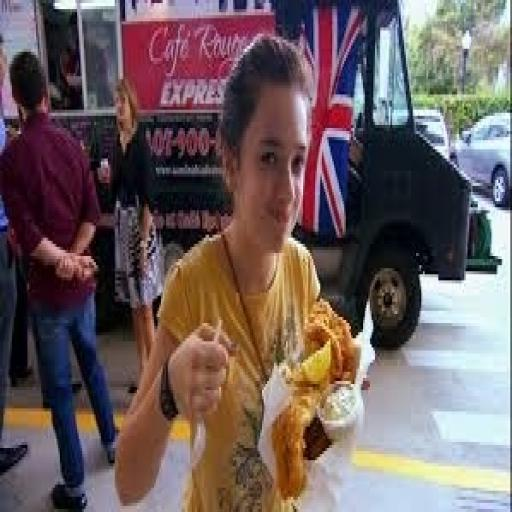eating: (111, 30, 372, 509)
